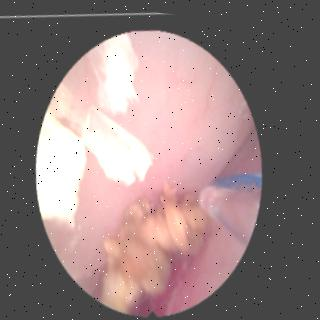stone: (107, 182, 212, 309), (85, 103, 153, 182), (42, 113, 87, 219), (107, 34, 137, 110)
tissue: (55, 31, 252, 290)
